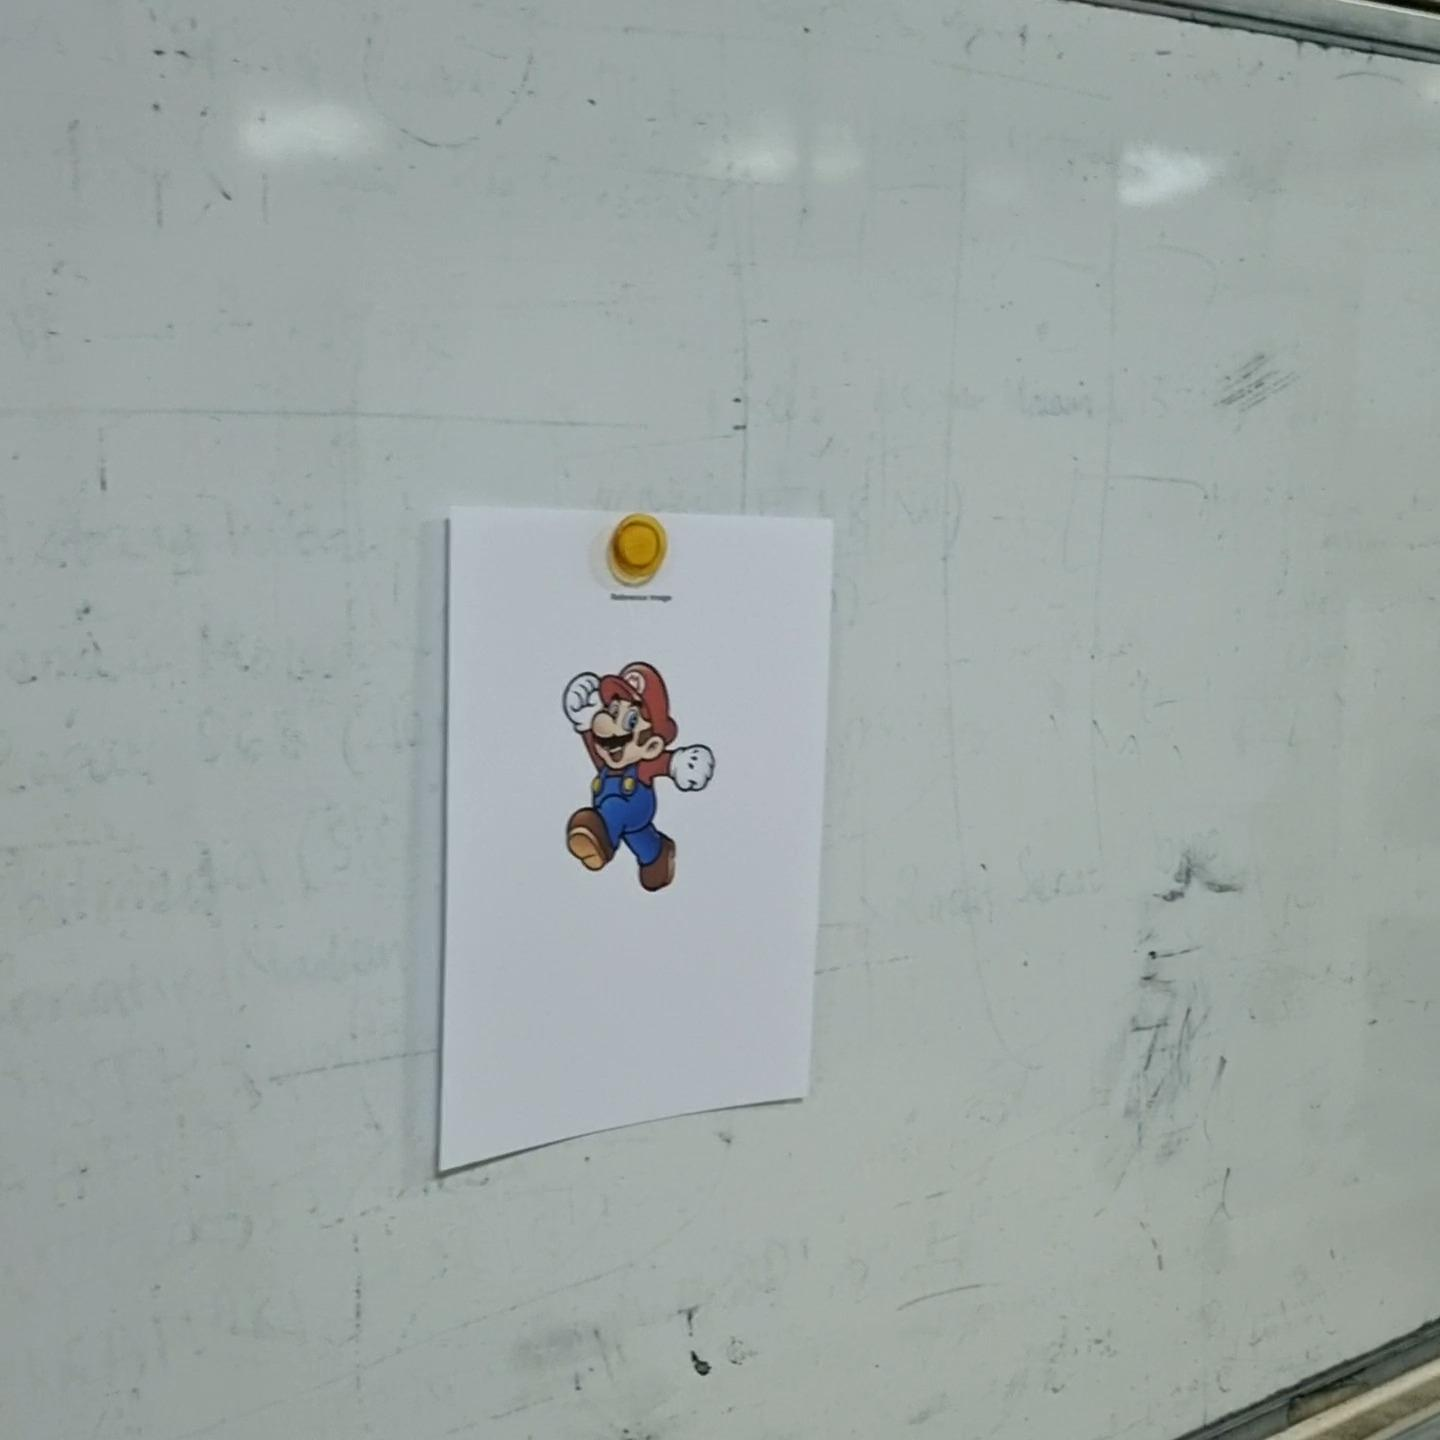mario: (554, 650, 720, 894)
